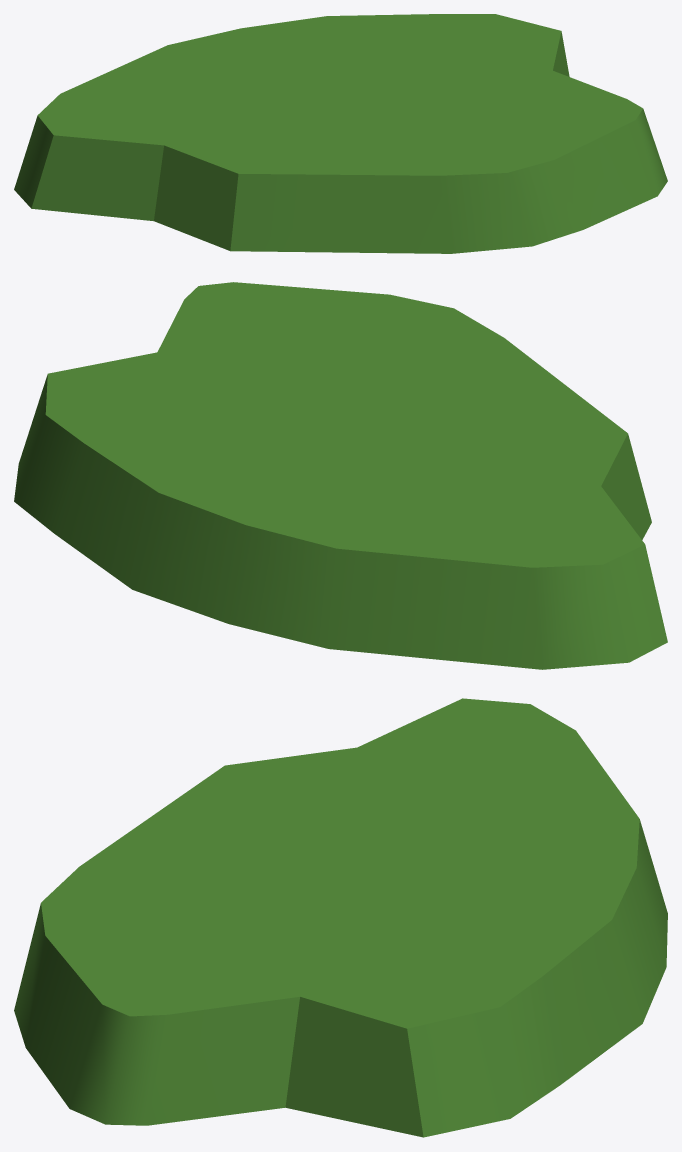
Rendered from grass_layer_crumb_big_C.fbx.
The picture shows the model from 3 angles, top to bottom: view 1: azimuth 30°, elevation 25°; view 2: azimuth 150°, elevation 25°; view 3: azimuth 270°, elevation 25°; orthographic projection. The views are drawn at different scales.
Visible parts, largest first — view 1: grass_layer_crumb_big_C; view 2: grass_layer_crumb_big_C; view 3: grass_layer_crumb_big_C.
Part boxes in pixels (box(x1,y1,x2,y2)): grass_layer_crumb_big_C: box(14, 14, 667, 253); grass_layer_crumb_big_C: box(14, 282, 667, 669); grass_layer_crumb_big_C: box(14, 698, 667, 1137).
Size of the model in its own units: 140 by 17.86 by 109.
